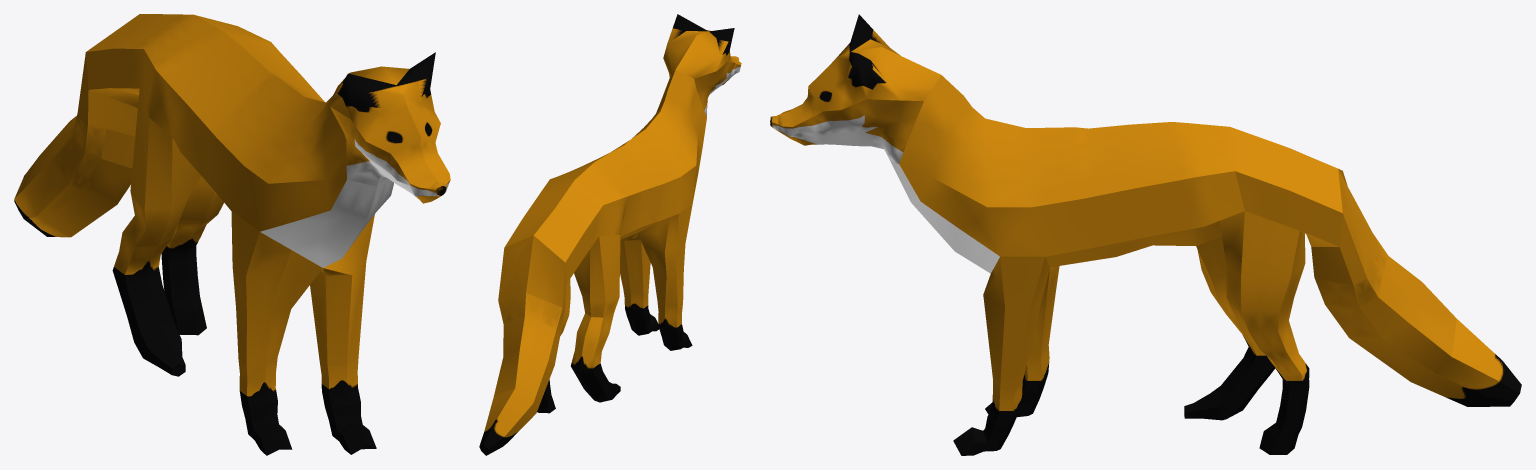
Rendered from fox.obj.
3 views of the same model, side by side, from view 1: azimuth 30°, elevation 25°; view 2: azimuth 150°, elevation 25°; view 3: azimuth 270°, elevation 25° (orthographic). The views are drawn at different scales.
Parts seen in each view (by area): view 1: fox_poked; view 2: fox_poked; view 3: fox_poked.
Boxes of the visible parts, bbox=[...] form: fox_poked: bbox=[14, 14, 450, 455]; fox_poked: bbox=[479, 14, 741, 455]; fox_poked: bbox=[770, 14, 1521, 455].
Size of the model in its own units: 0.2357 by 0.8162 by 1.37.
1 material, 1 textured.
